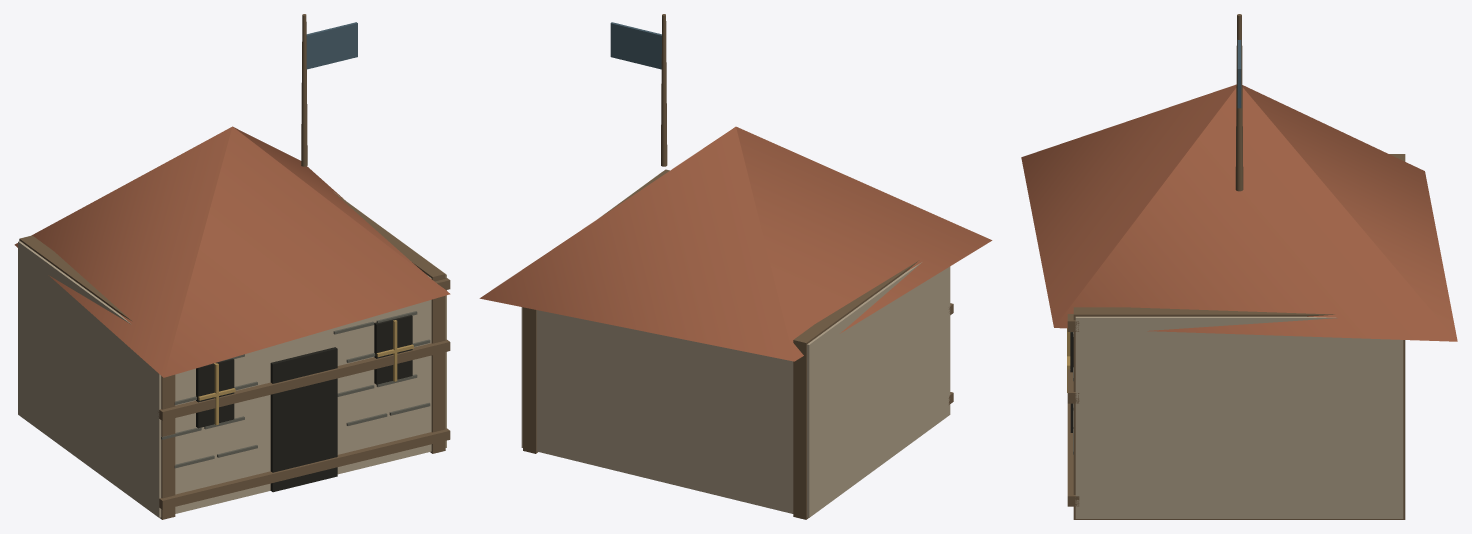
File: b-house-castilian.glb
The picture shows the model from 3 angles, left to right: view 1: azimuth 30°, elevation 25°; view 2: azimuth 150°, elevation 25°; view 3: azimuth 270°, elevation 25°; orthographic projection. The views are drawn at different scales.
Parts seen in each view (by area): view 1: Structure; view 2: Structure; view 3: Structure.
Boxes of the visible parts, x1,y1,x2,y2 form: Structure: (14,14,450,519); Structure: (479,14,992,519); Structure: (1021,14,1457,519).
Size of the model in its own units: 4.53 by 5.33 by 4.53.
